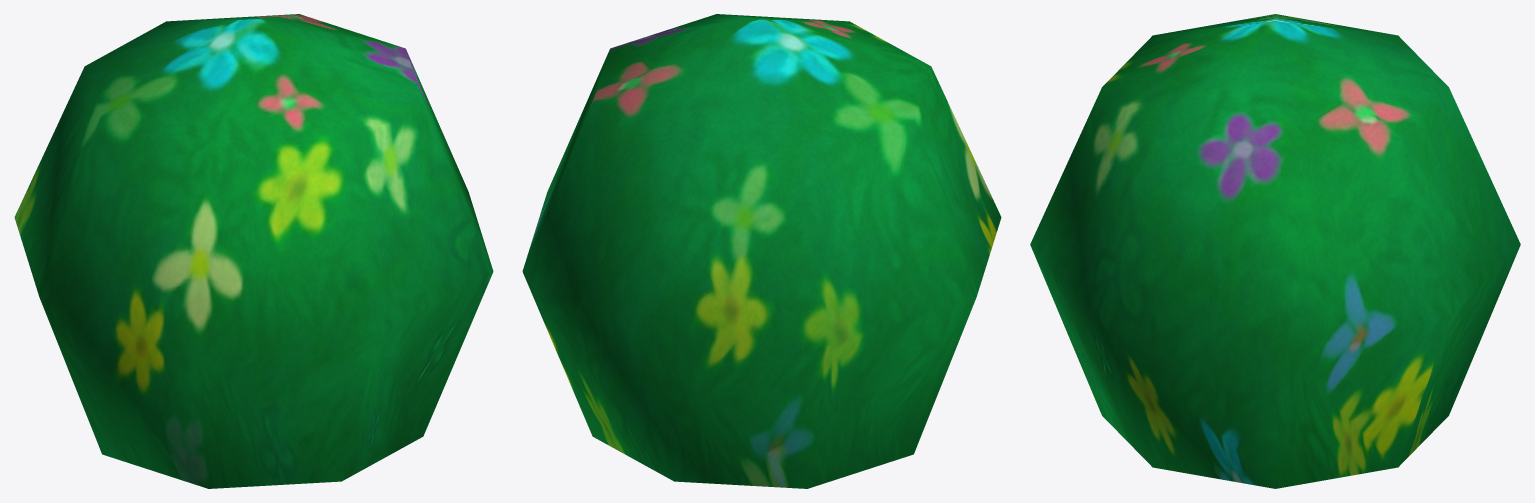
Rendered from Plant02_a01.FBX.
The picture shows the model from 3 angles, left to right: view 1: azimuth 30°, elevation 25°; view 2: azimuth 150°, elevation 25°; view 3: azimuth 270°, elevation 25°; orthographic projection.
Visible parts, largest first — view 1: Plant02_a01; view 2: Plant02_a01; view 3: Plant02_a01.
Boxes of the visible parts, x1,y1,x2,y2 form: Plant02_a01: [14, 14, 493, 488]; Plant02_a01: [522, 14, 1001, 488]; Plant02_a01: [1030, 14, 1520, 488].
Bounding box in the file's own units: 176 × 156 × 176.
1 material, 1 textured.
